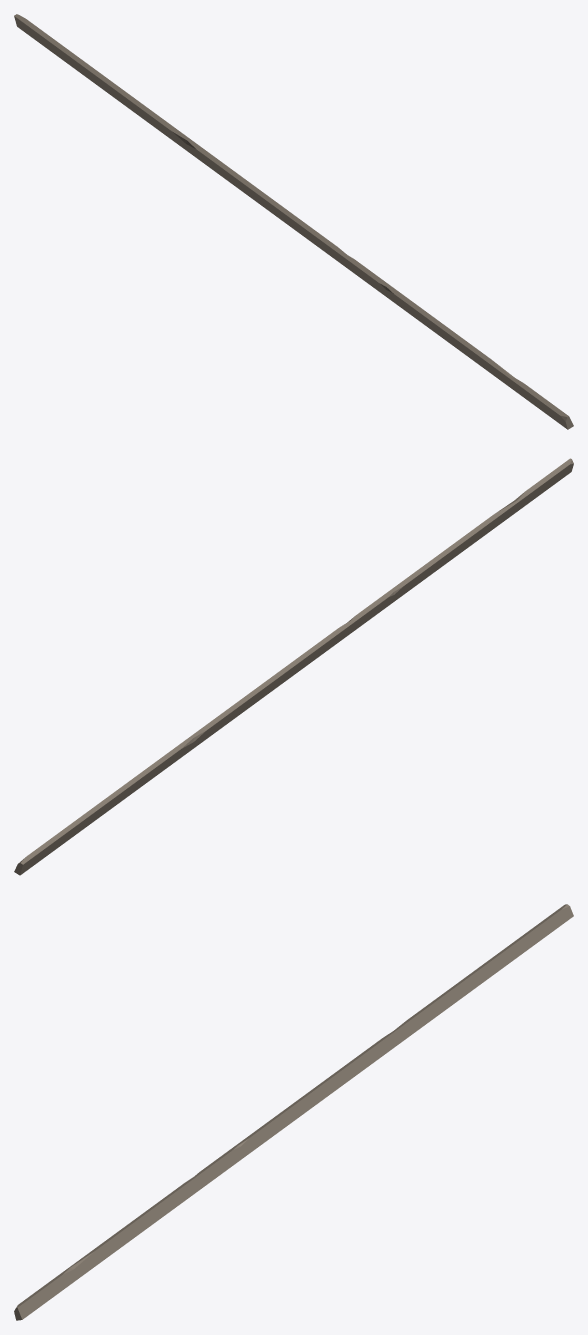
Rendered from SM_Env_Road_Edge_01.fbx.
3 renders of one model, top to bottom at view 1: azimuth 30°, elevation 25°; view 2: azimuth 150°, elevation 25°; view 3: azimuth 330°, elevation 25°, orthographic.
Parts seen in each view (by area): view 1: SM_Env_Road_Edge_01; view 2: SM_Env_Road_Edge_01; view 3: SM_Env_Road_Edge_01.
Part boxes in pixels (x1=…): SM_Env_Road_Edge_01: x1=14, y1=14, x2=573, y2=429; SM_Env_Road_Edge_01: x1=14, y1=458, x2=573, y2=875; SM_Env_Road_Edge_01: x1=14, y1=904, x2=573, y2=1320.
Size of the model in its own units: 47.81 by 66.57 by 5000.
